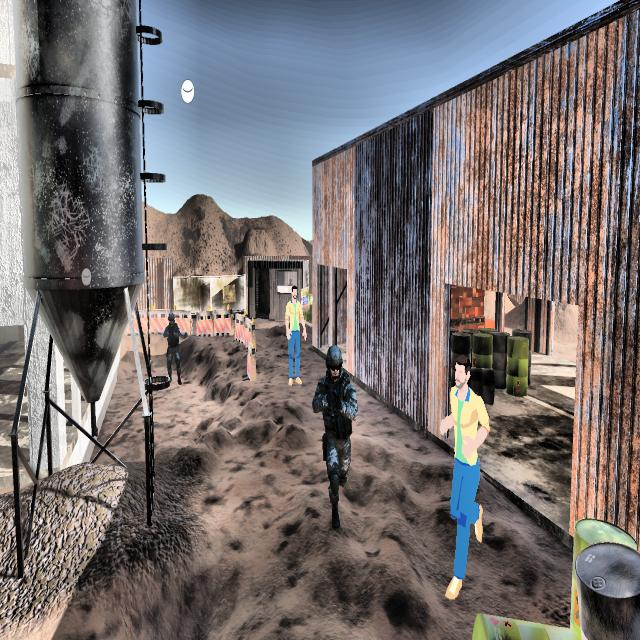bad: (311, 339, 362, 540), (162, 307, 186, 392)
good: (431, 350, 492, 613), (280, 276, 311, 396)
